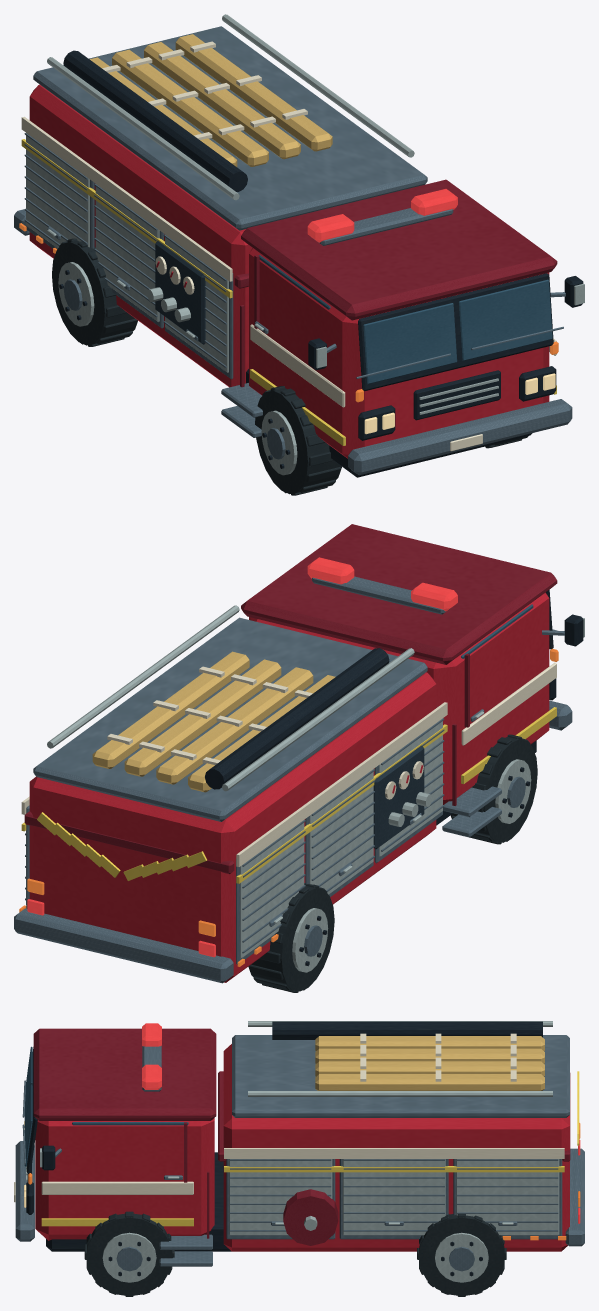
Rendered from engine-pumper.glb.
3 renders of one model, top to bottom at view 1: azimuth 30°, elevation 25°; view 2: azimuth 150°, elevation 25°; view 3: azimuth 270°, elevation 25°, orthographic. The views are drawn at different scales.
Visible parts, largest first — view 1: engine-pumper; view 2: engine-pumper; view 3: engine-pumper.
Boxes of the visible parts, x1,y1,x2,y2 form: engine-pumper: (14,14,584,495); engine-pumper: (14,524,584,992); engine-pumper: (14,1021,584,1296).
Bounding box in the file's own units: 3.06 × 2.66 × 6.84.
Materials: 4 (4 with a texture image).
